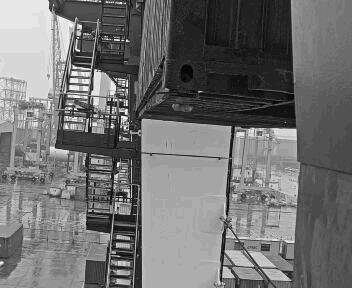twist_lock_1: (174, 174, 225, 211)
